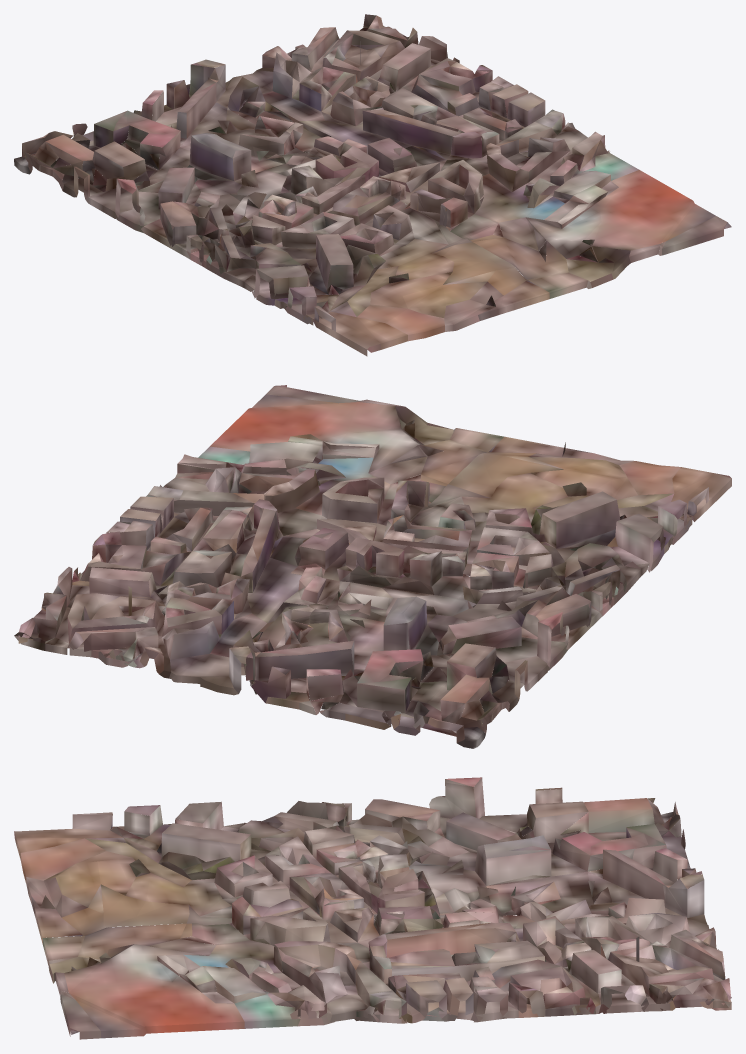
3 views of the same model, one above another, from view 1: azimuth 30°, elevation 25°; view 2: azimuth 150°, elevation 25°; view 3: azimuth 270°, elevation 25° (orthographic). The views are drawn at different scales.
Visible parts, largest first — view 1: Mesh_0; view 2: Mesh_0; view 3: Mesh_0.
Part boxes in pixels (x1=…): Mesh_0: x1=14, y1=14, x2=731, y2=356; Mesh_0: x1=14, y1=385, x2=731, y2=748; Mesh_0: x1=14, y1=777, x2=731, y2=1039.
Size of the model in its own units: 532 by 66.95 by 659.
2 materials, 2 textured.
